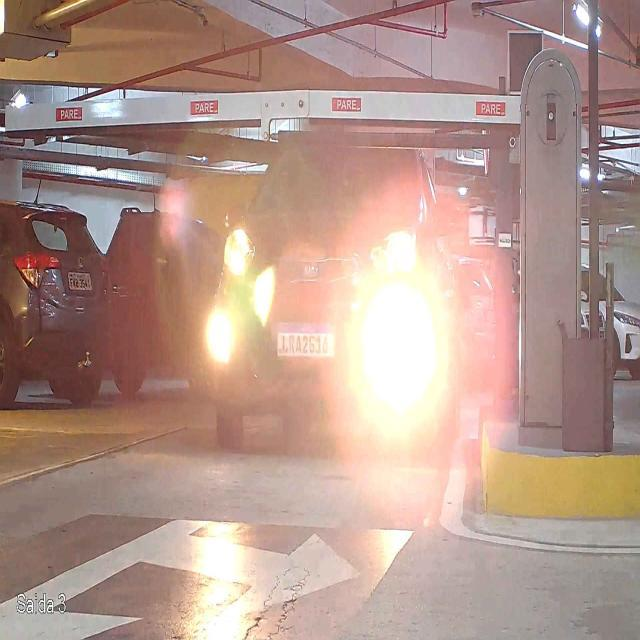mercosul_plate: (275, 322, 338, 358)
